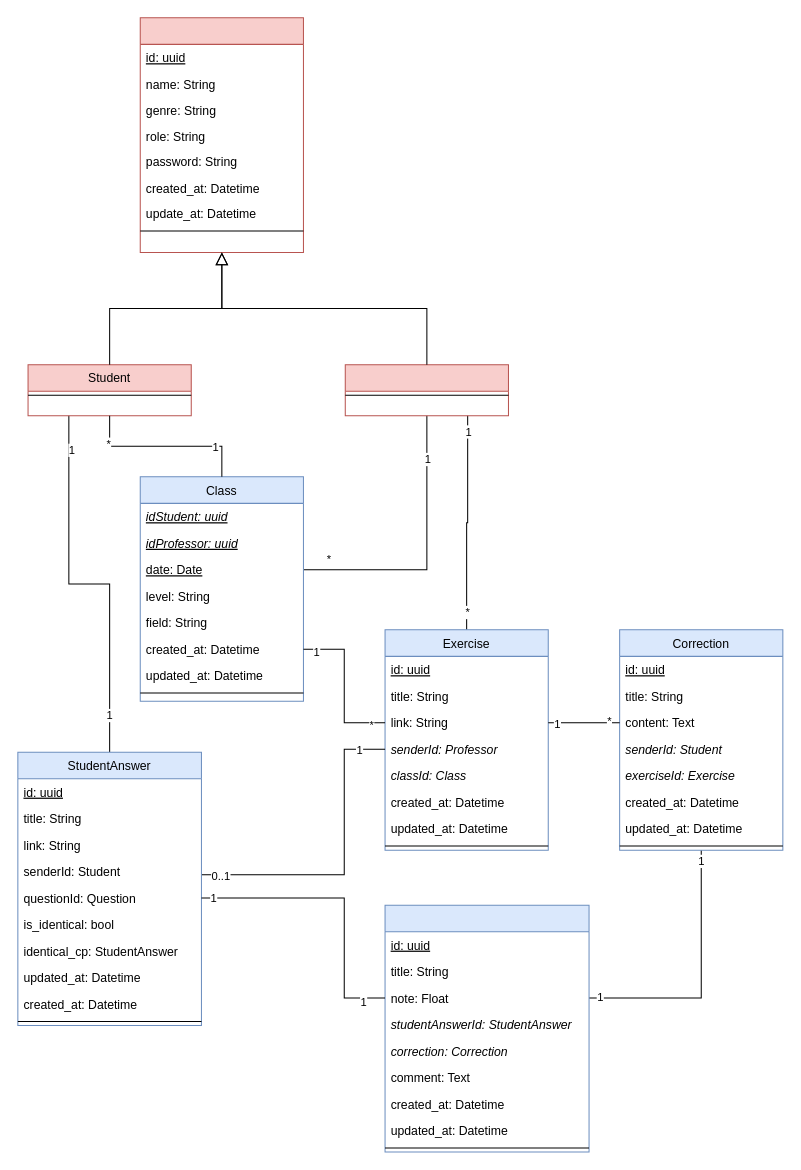
Some shapes in this 801 by 1170 pixel diagram are drawn without their labels. The box of each missing label's shape, as (x1, y1, x2, y2) in pixels:
Professor: (344, 364, 508, 416)
Score: (384, 904, 589, 1152)
User: (139, 17, 303, 252)
